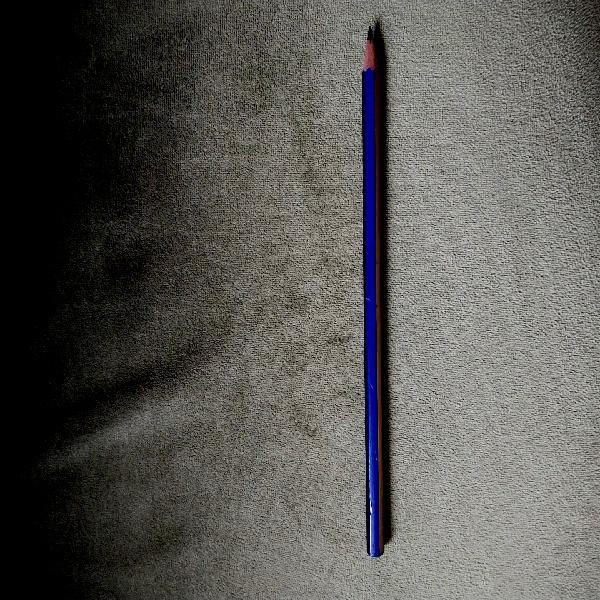pencil: (356, 28, 395, 562)
